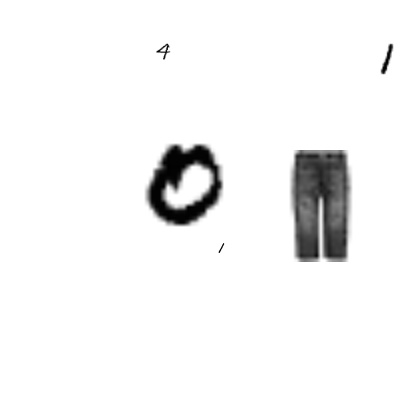0: (126, 125, 238, 237)
1: (366, 38, 408, 80), (214, 241, 228, 255)
4: (153, 39, 175, 61)
Trouser: (263, 150, 375, 262)
